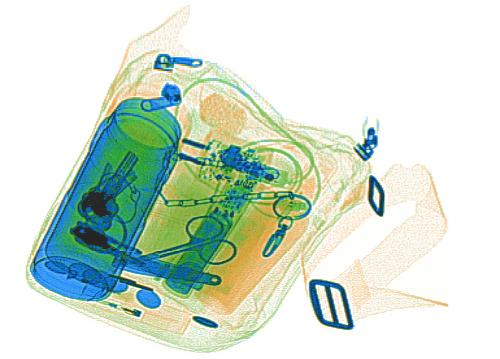battery: (163, 203, 233, 296)
lighter: (76, 275, 192, 335)
plasticBottleWithaNozzle: (193, 147, 338, 316)
scissors: (112, 214, 238, 268)
